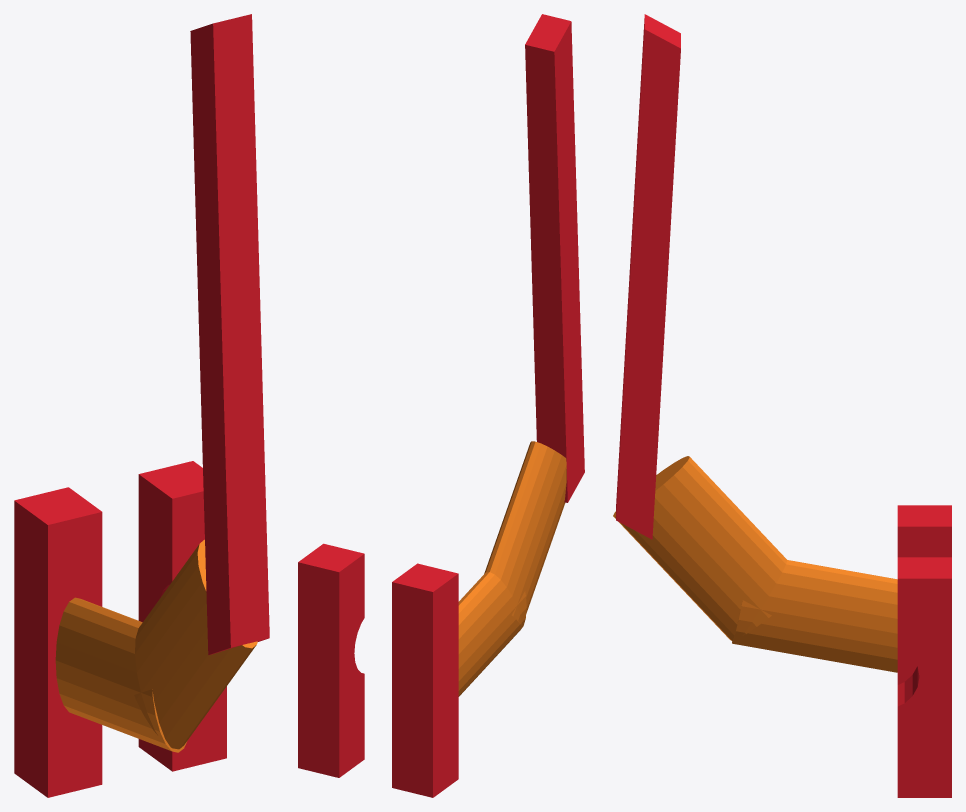
File: tinker.obj
3 renders of one model, left to right at view 1: azimuth 30°, elevation 25°; view 2: azimuth 150°, elevation 25°; view 3: azimuth 270°, elevation 25°, orthographic. The views are drawn at different scales.
Visible parts, largest first — view 1: group_0_15277357, group_0_16089887; view 2: group_0_15277357, group_0_16089887; view 3: group_0_15277357, group_0_16089887.
Part boxes in pixels (bbox=[...]): group_0_15277357: bbox=[14, 14, 269, 797]; group_0_16089887: bbox=[55, 539, 257, 752]; group_0_15277357: bbox=[298, 14, 584, 797]; group_0_16089887: bbox=[458, 441, 566, 696]; group_0_15277357: bbox=[616, 14, 951, 797]; group_0_16089887: bbox=[613, 456, 897, 672].
Bounding box in the file's own units: 46 × 219 × 93.85.
